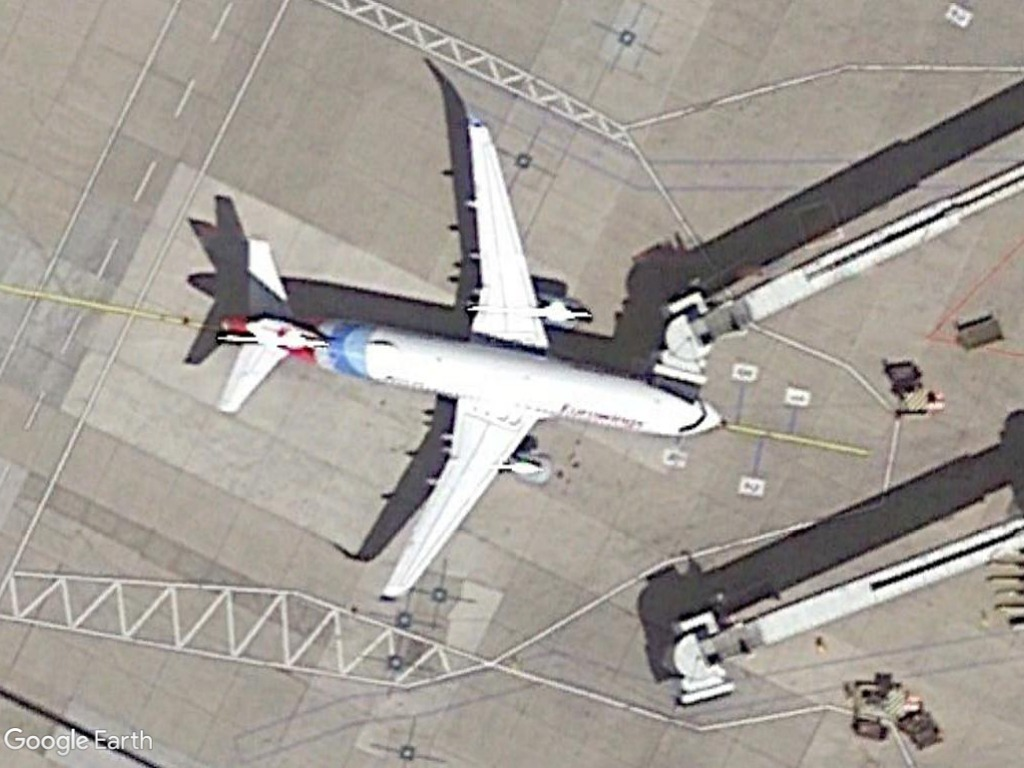airliner: (206, 114, 730, 609)
